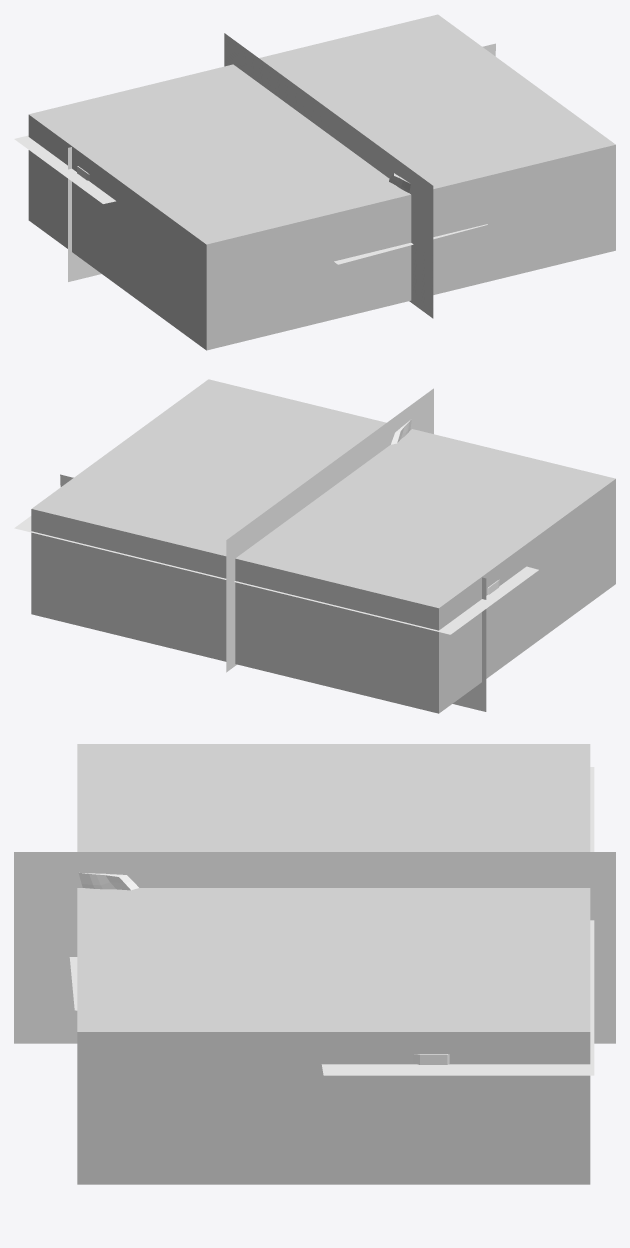
Rendered from cessna172.glb.
3 views of the same model, one above another, from view 1: azimuth 30°, elevation 25°; view 2: azimuth 150°, elevation 25°; view 3: azimuth 270°, elevation 25° (orthographic). The views are drawn at different scales.
Parts seen in each view (by area): view 1: Cube-noimp, Empty.004-noimp, Empty.003-noimp, Empty.005-noimp; view 2: Cube-noimp, Empty.004-noimp, Empty.003-noimp, Empty.005-noimp; view 3: Cube-noimp, Empty.004-noimp, Empty.003-noimp.
Part boxes in pixels (x1,y1,x2,y2): Cube-noimp: (28,14,615,350); Empty.004-noimp: (224,33,433,318); Empty.003-noimp: (14,135,487,264); Empty.005-noimp: (68,43,495,281); Cube-noimp: (31,379,615,713); Empty.004-noimp: (226,388,433,672); Empty.003-noimp: (14,516,538,634); Empty.005-noimp: (60,474,486,711); Cube-noimp: (77,744,590,1184); Empty.004-noimp: (14,852,615,1043); Empty.003-noimp: (69,767,594,1075).
Size of the model in its own units: 11.79 by 4.11 by 9.72.
Materials: 4 (3 with a texture image).
